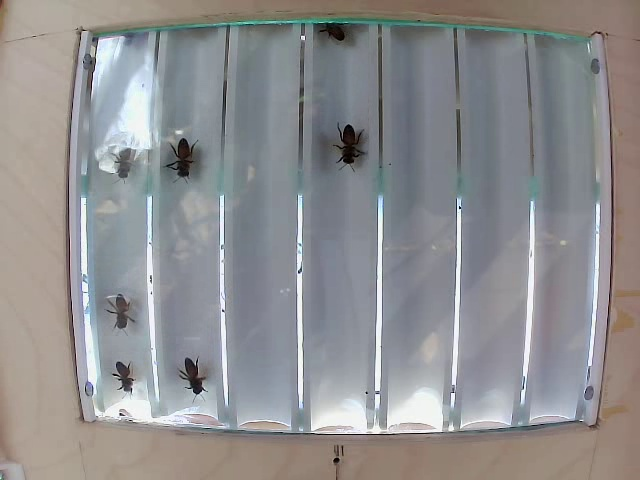bee: (156, 132, 205, 188), (326, 111, 365, 179), (166, 354, 215, 403), (96, 281, 131, 333), (307, 14, 351, 54), (103, 144, 142, 180), (105, 364, 143, 400)
